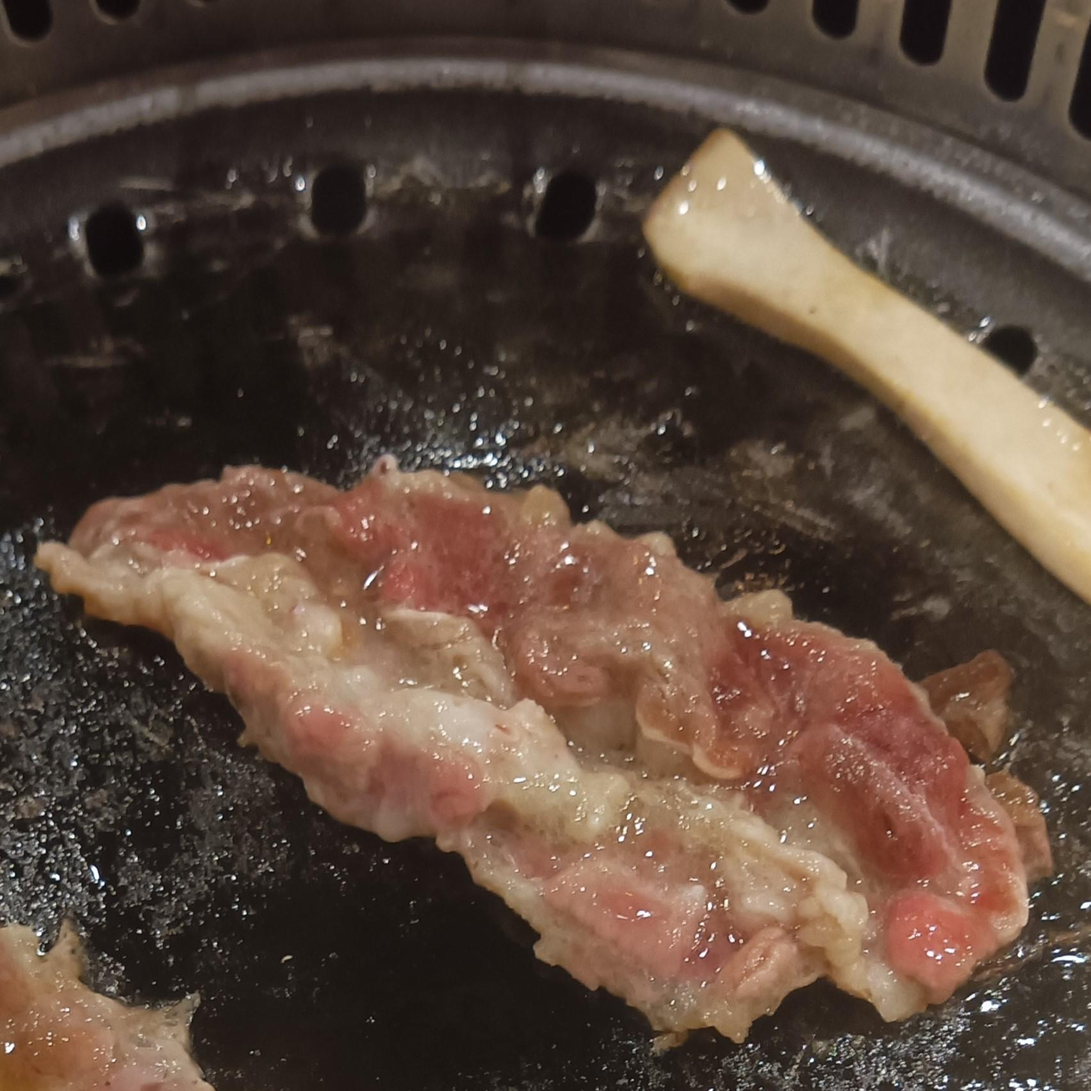Undercooked: (35, 463, 1054, 1046), (0, 928, 212, 1090)
